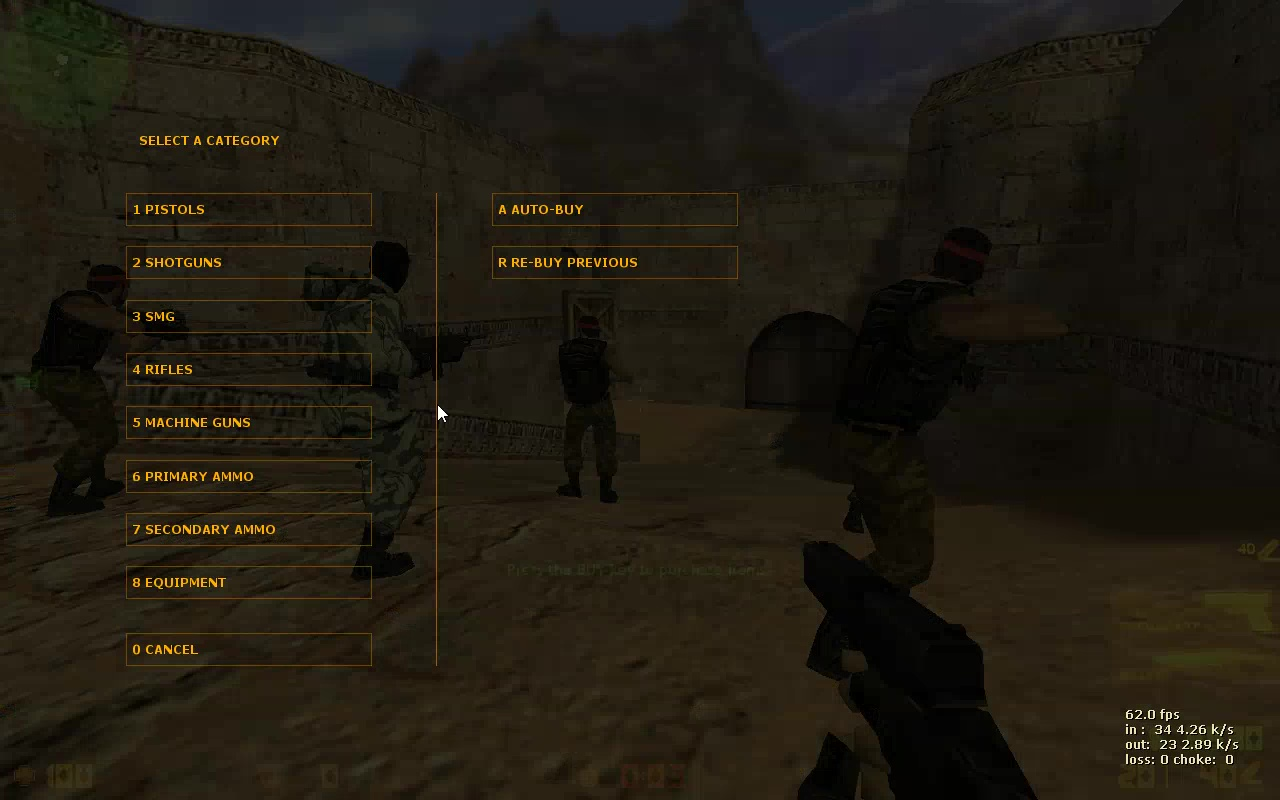terr1: (830, 228, 1063, 650), (30, 269, 195, 512), (553, 316, 635, 507)
terr2: (303, 238, 479, 588)
